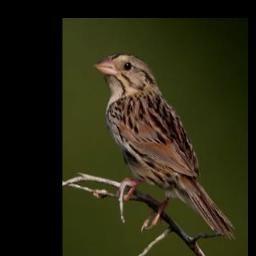Sparrow: (93, 50, 233, 238)
